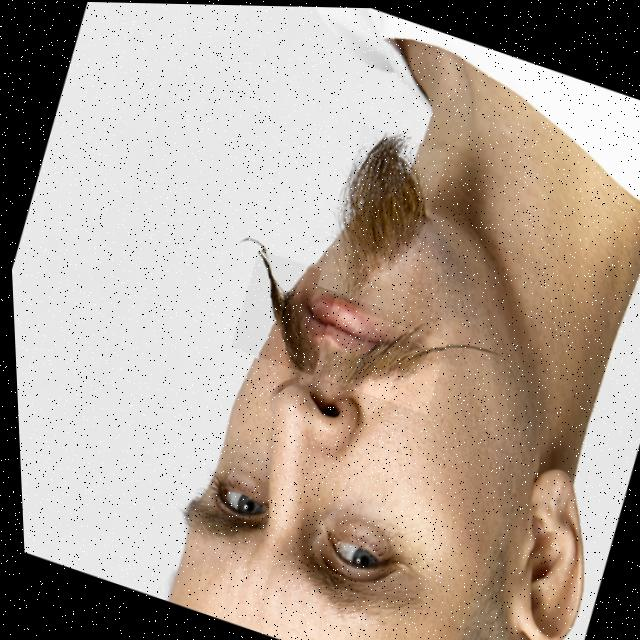beard: (333, 133, 426, 296), (257, 249, 316, 371), (320, 329, 442, 386)
